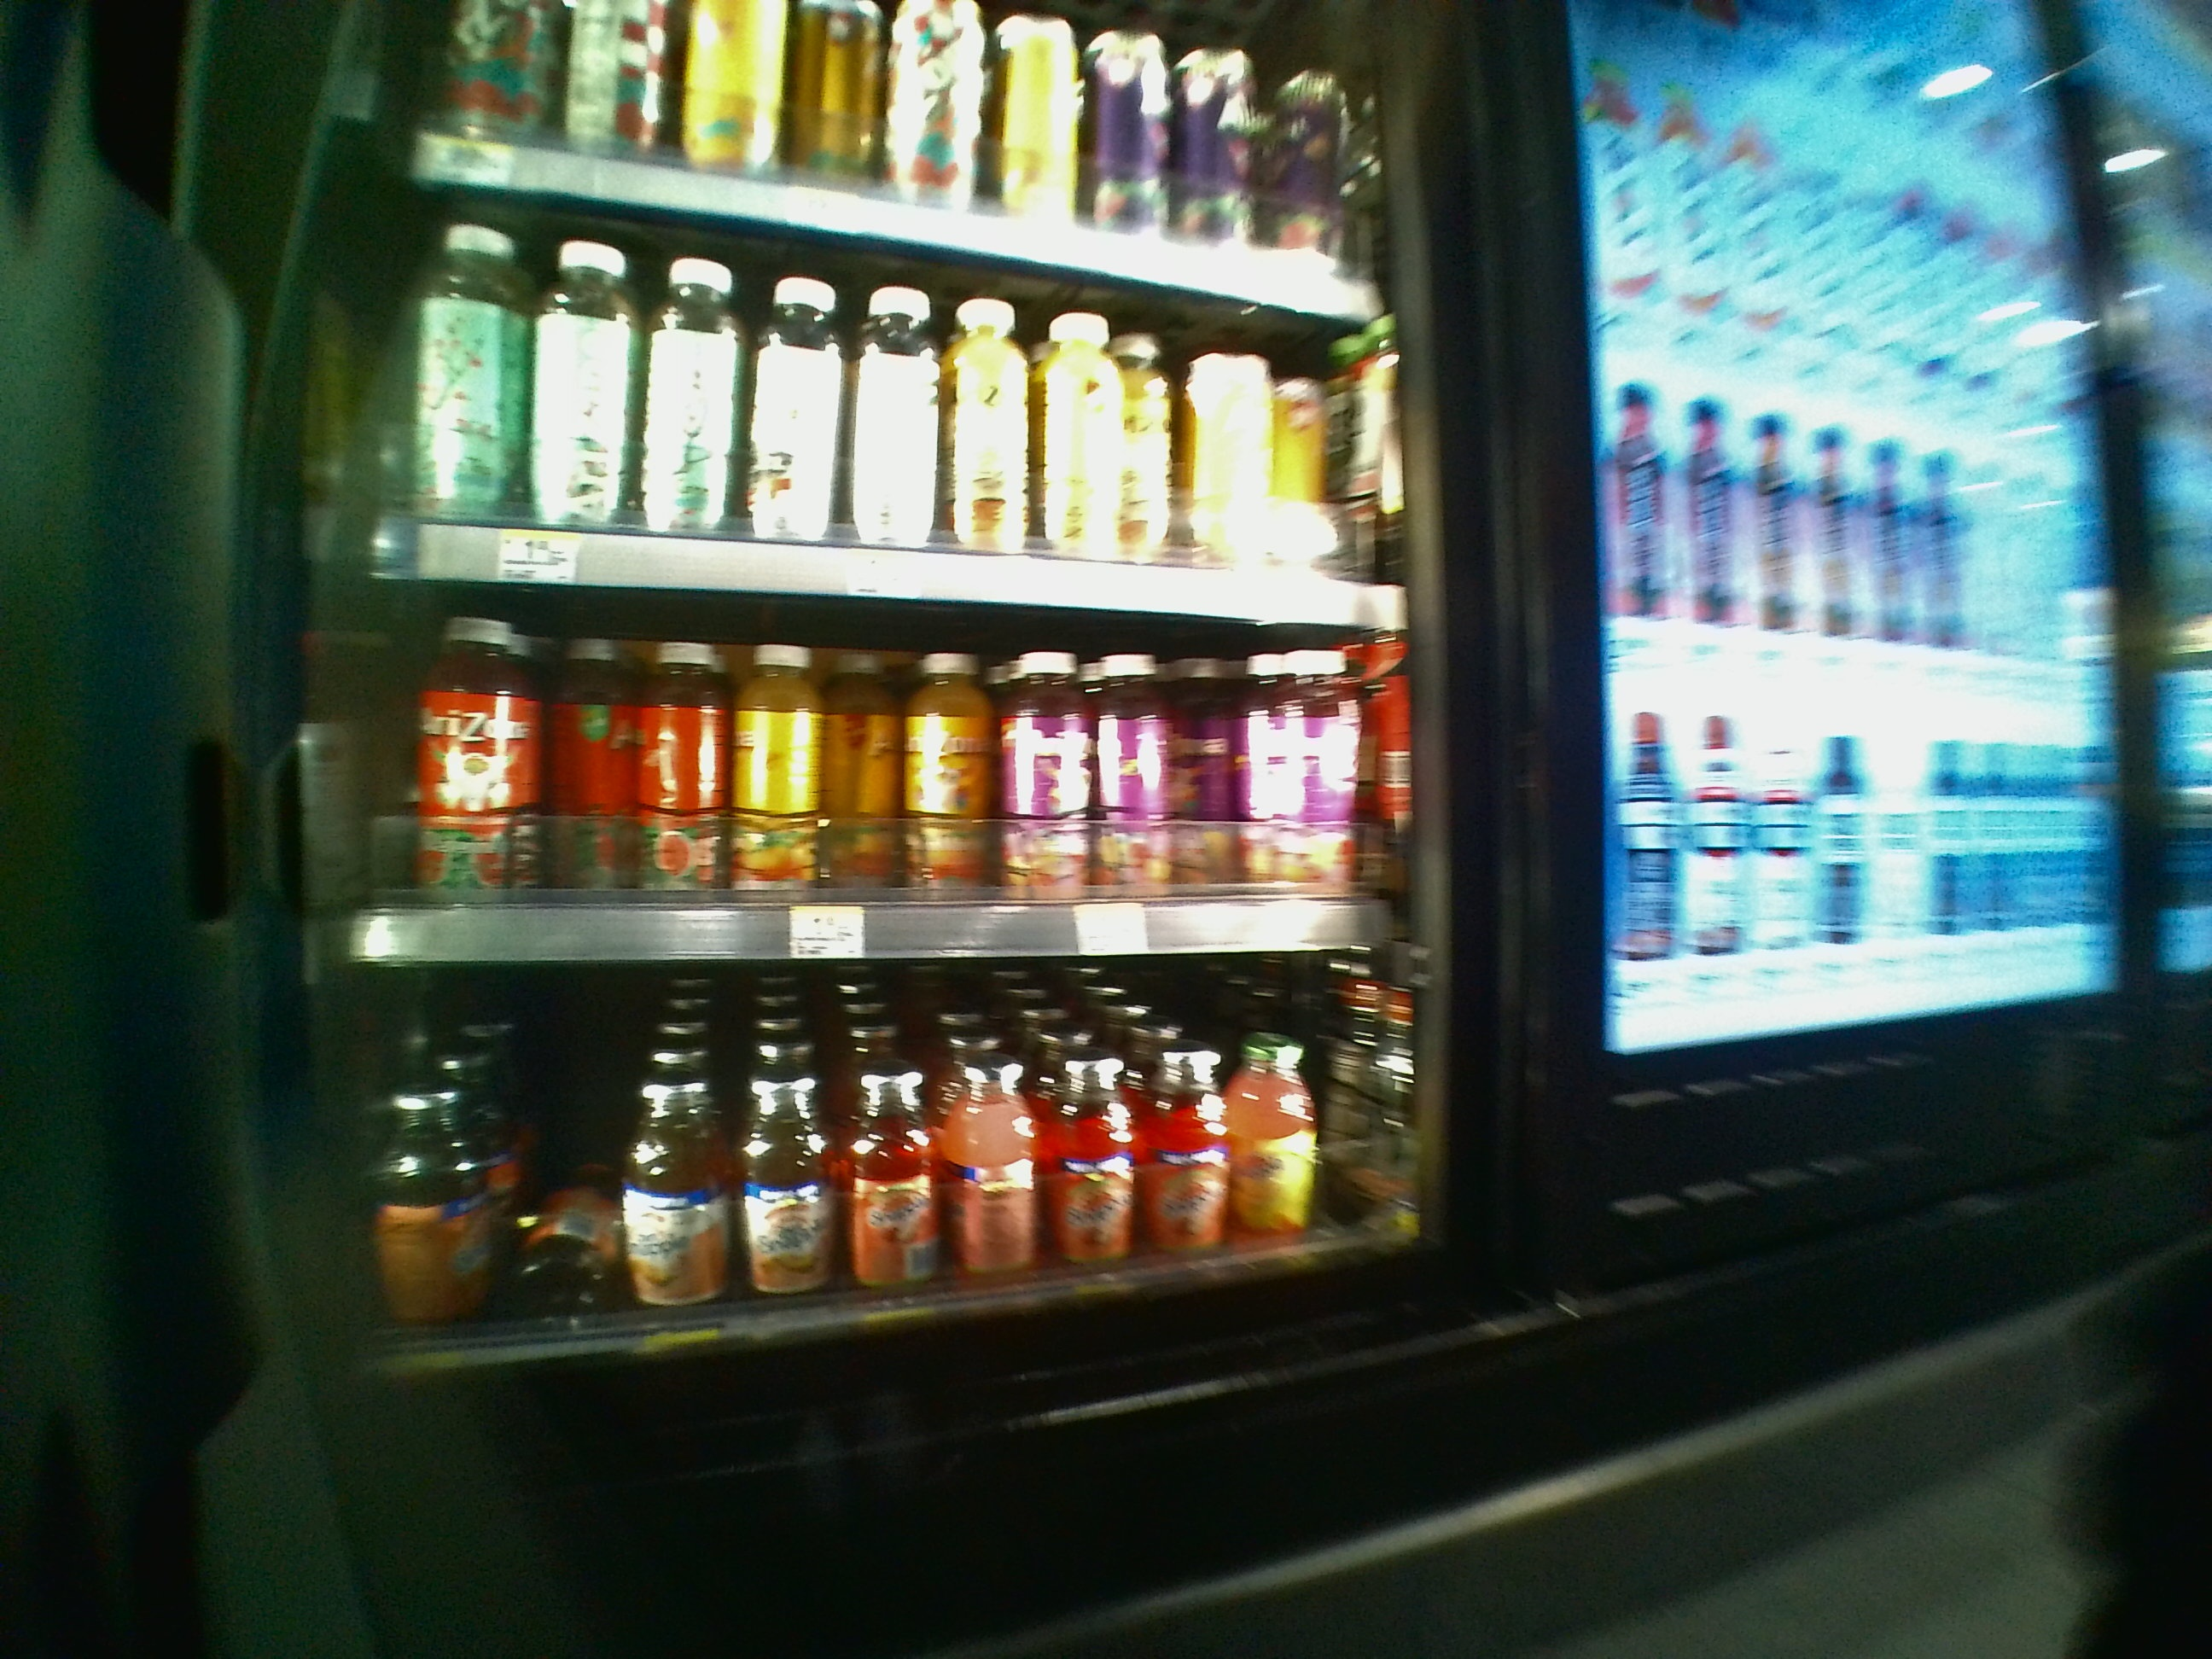shelf: (359, 972, 1418, 1368), (355, 586, 1404, 962)
